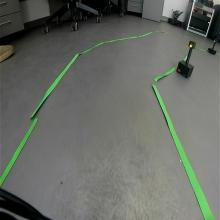green: (188, 40, 196, 48)
